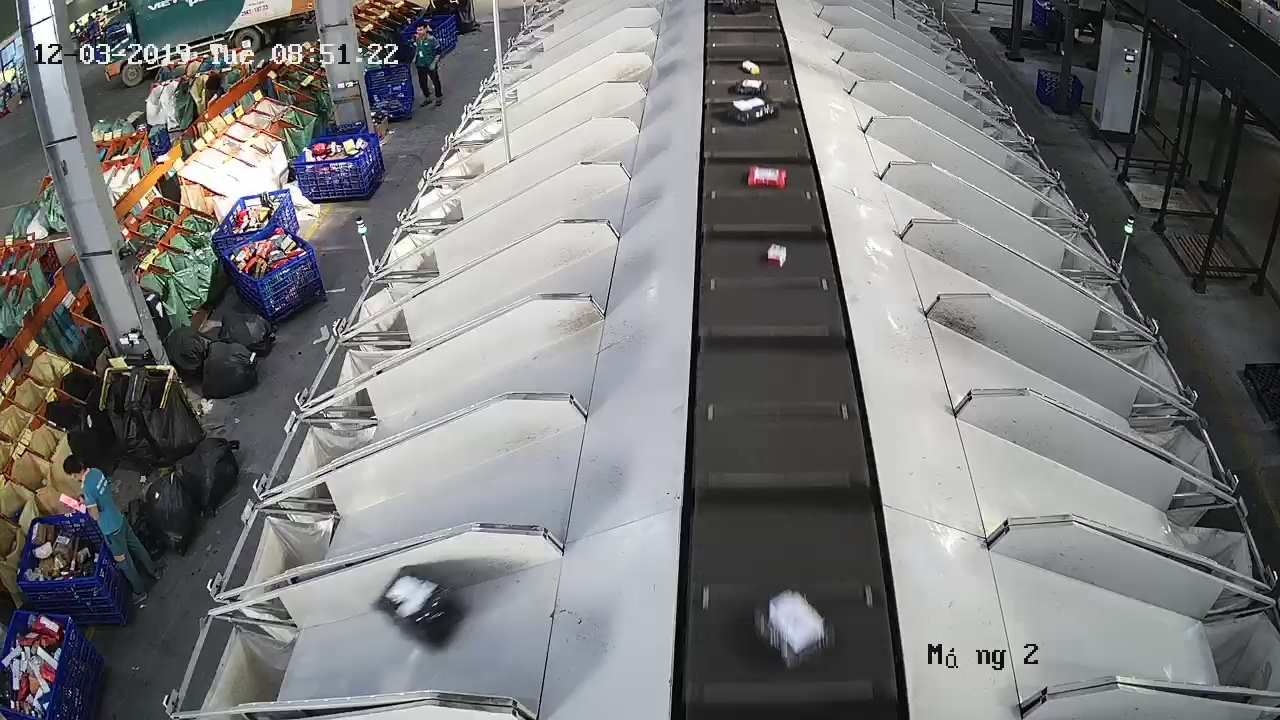parcel: (370, 572, 462, 646)
